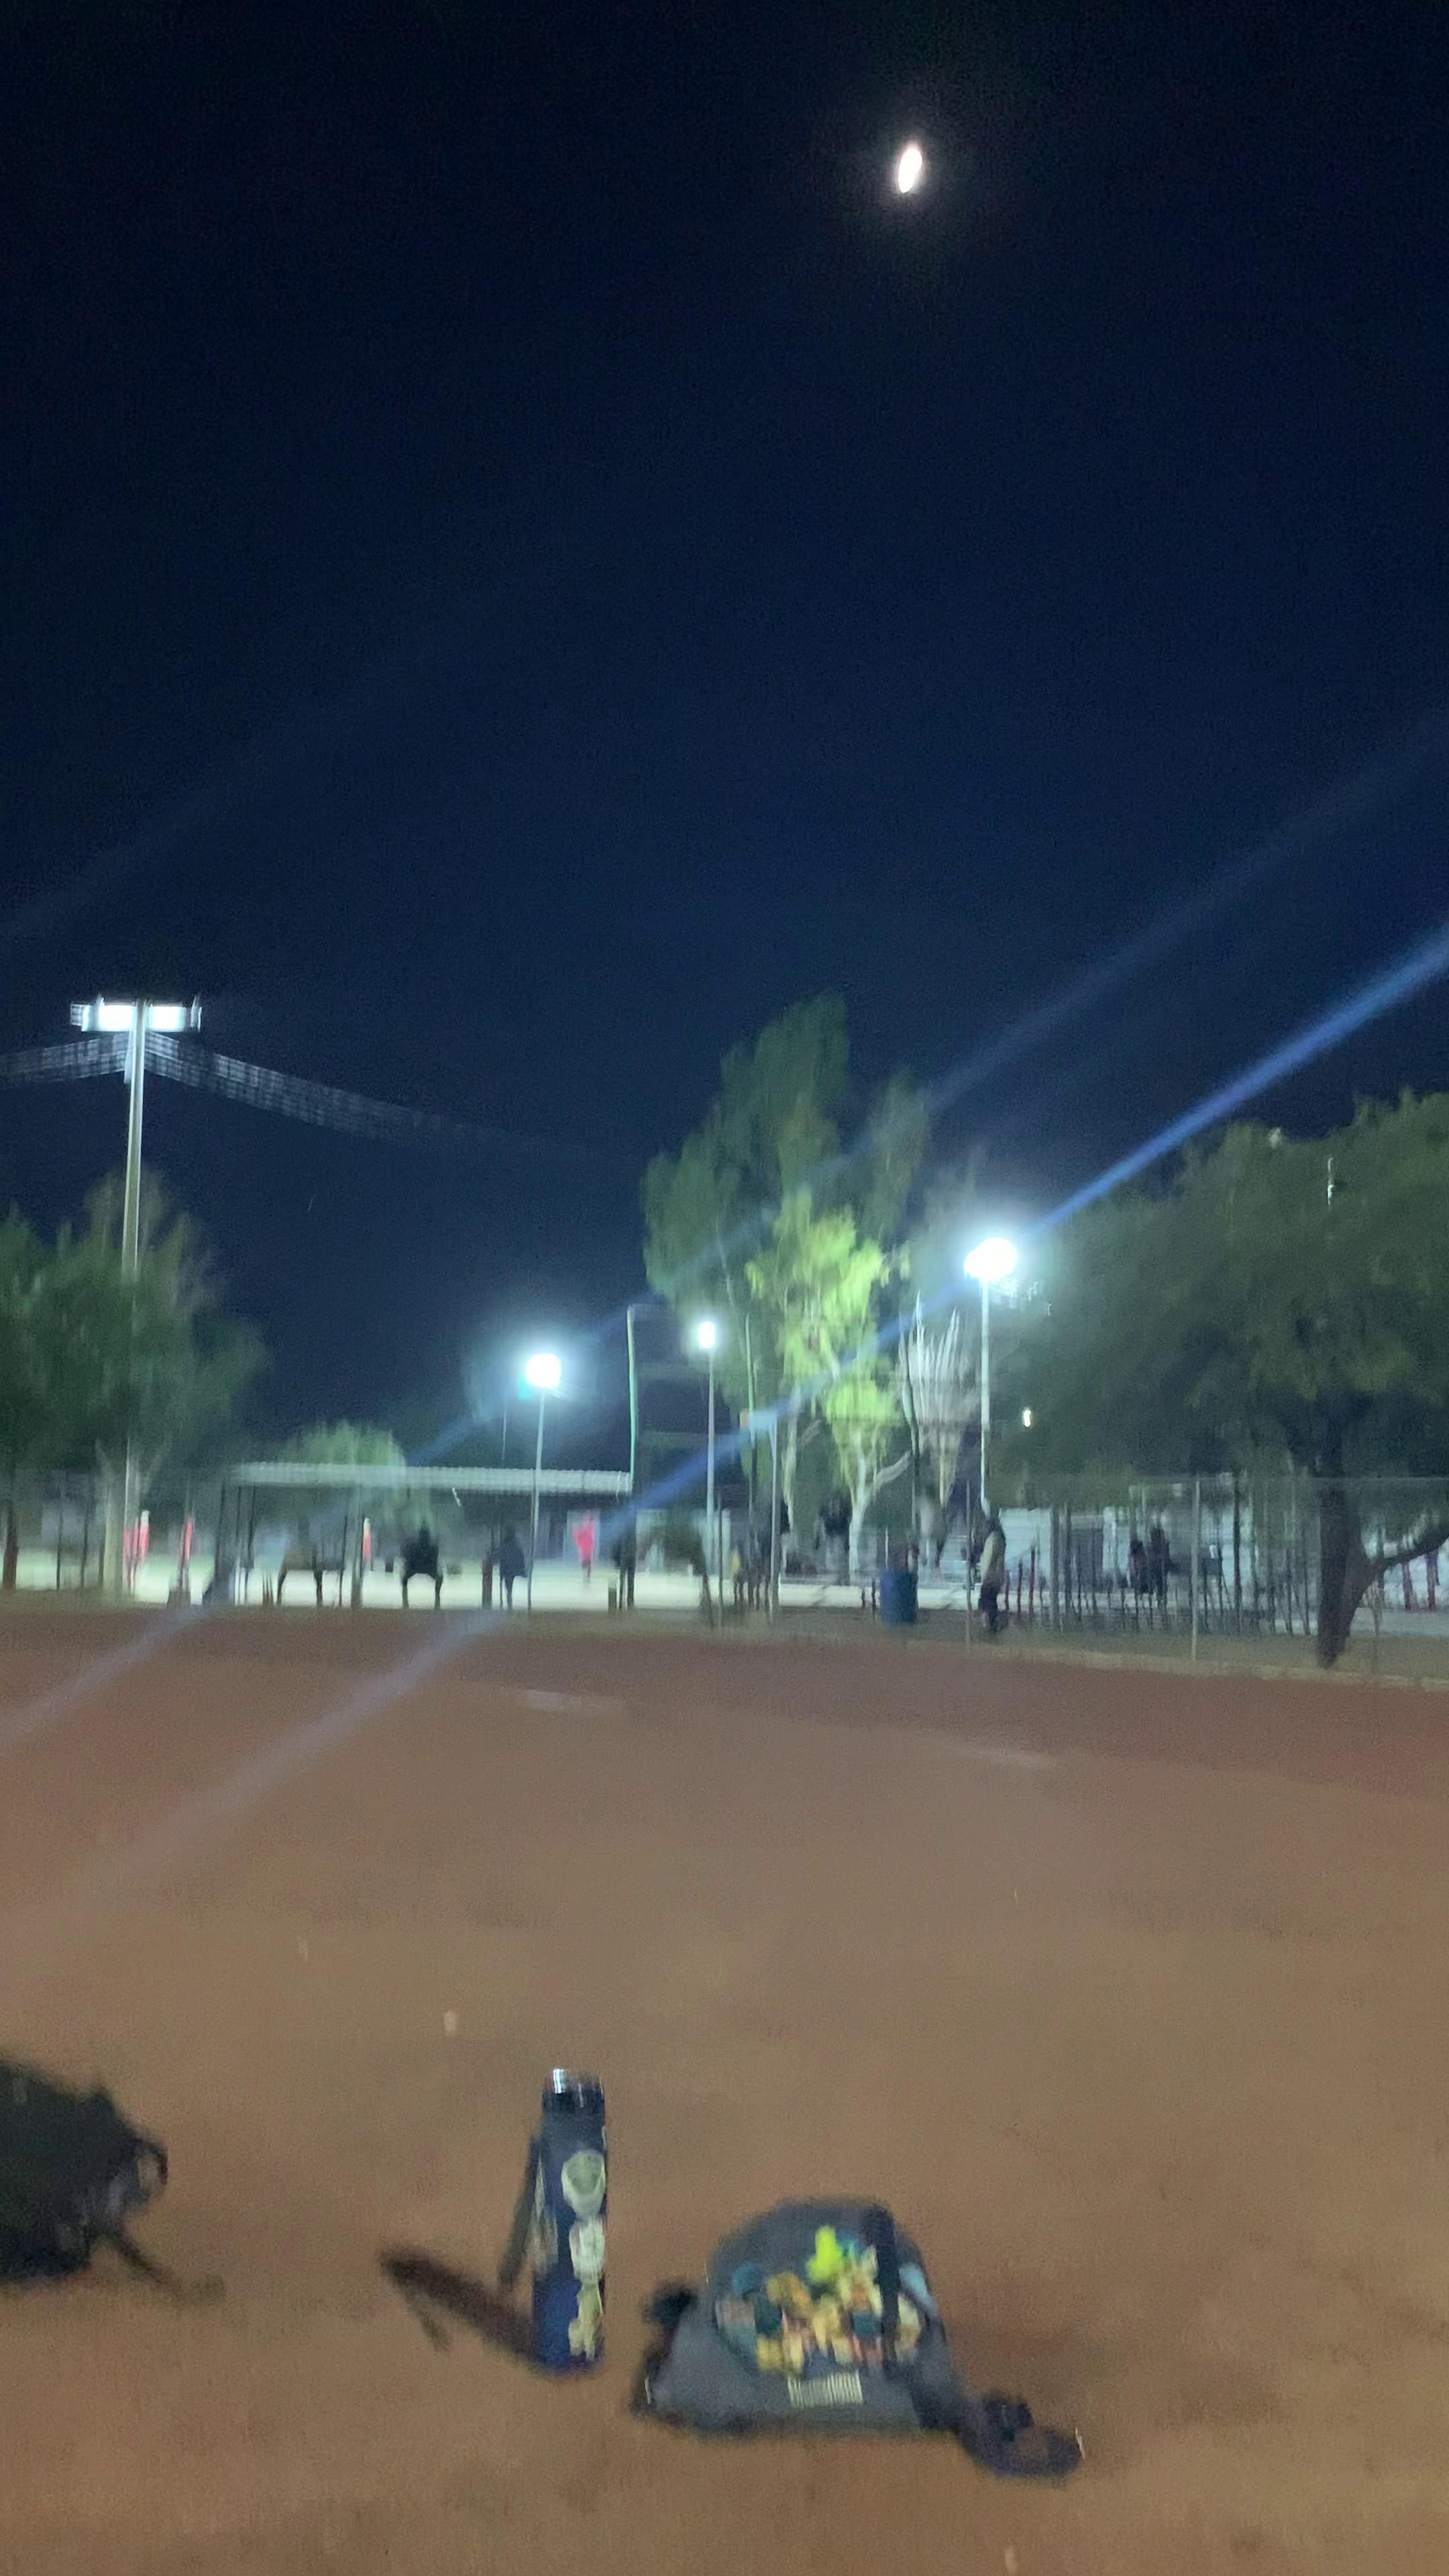moon: (863, 108, 964, 226)
